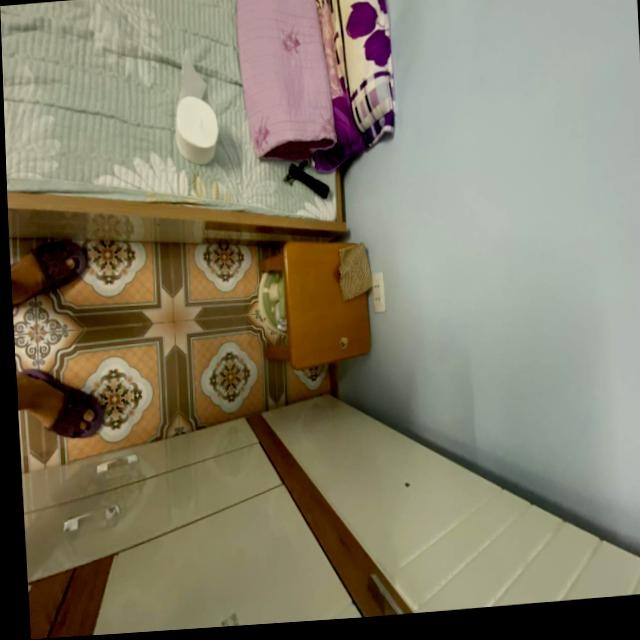outlet: (370, 271, 384, 313)
